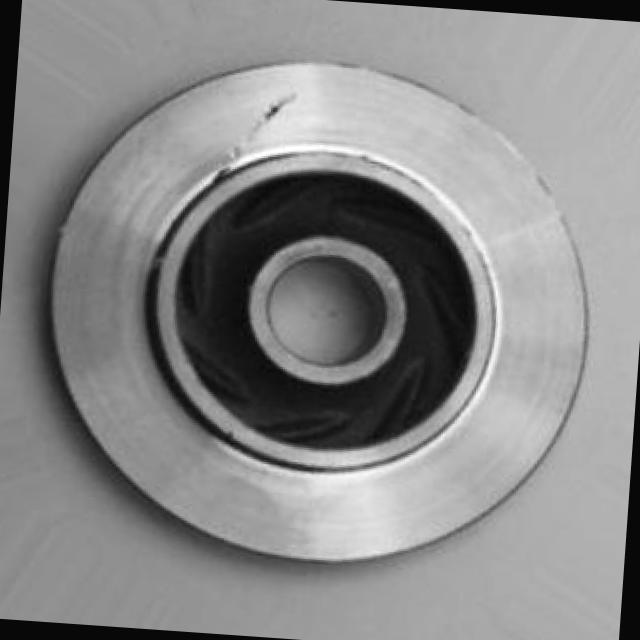Defect: (256, 96, 294, 126)
